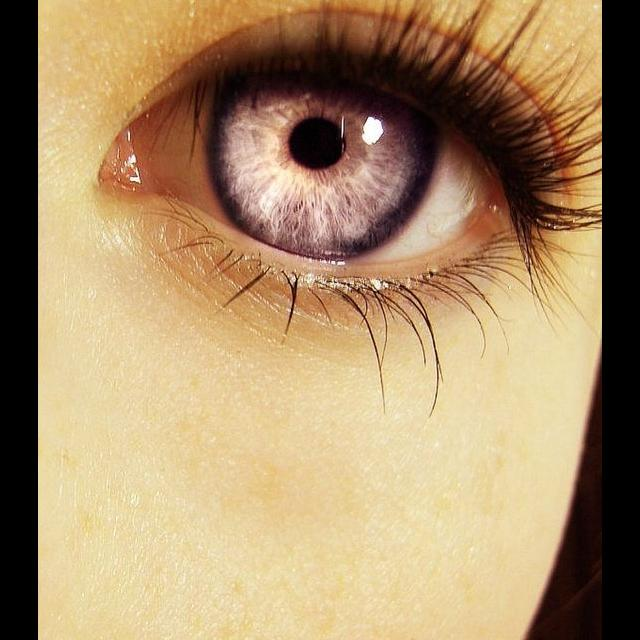eye: (152, 52, 504, 273)
iris: (208, 69, 443, 259)
